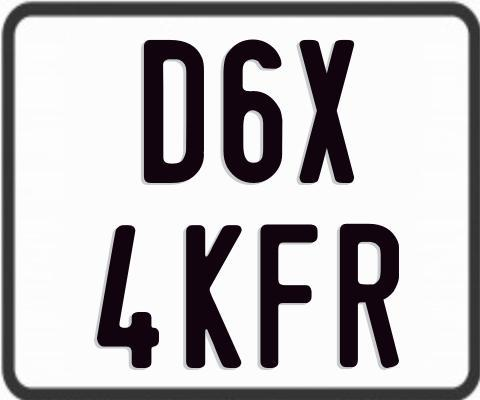4: (97, 222, 161, 368)
6: (220, 39, 280, 182)
D: (144, 38, 210, 186)
F: (259, 222, 322, 372)
K: (183, 225, 243, 374)
R: (337, 223, 402, 369)
X: (297, 37, 357, 183)
